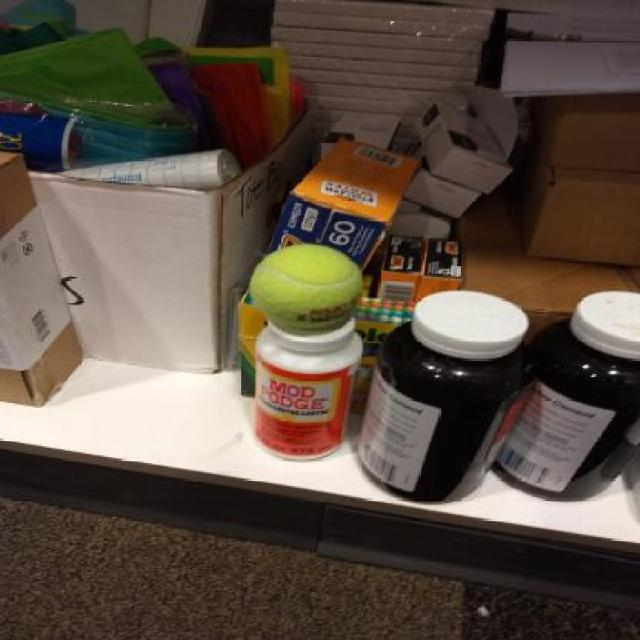Tennis_Ball: (254, 243, 363, 334)
